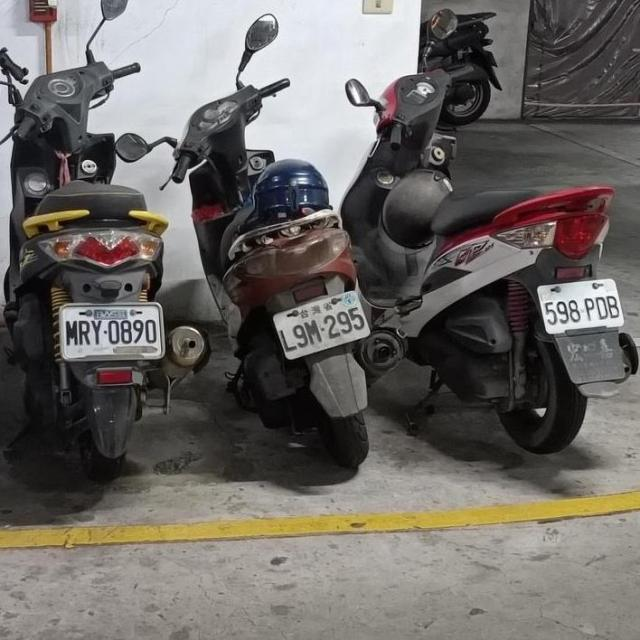W: (267, 283, 374, 362), (57, 298, 167, 362), (531, 270, 627, 338)
